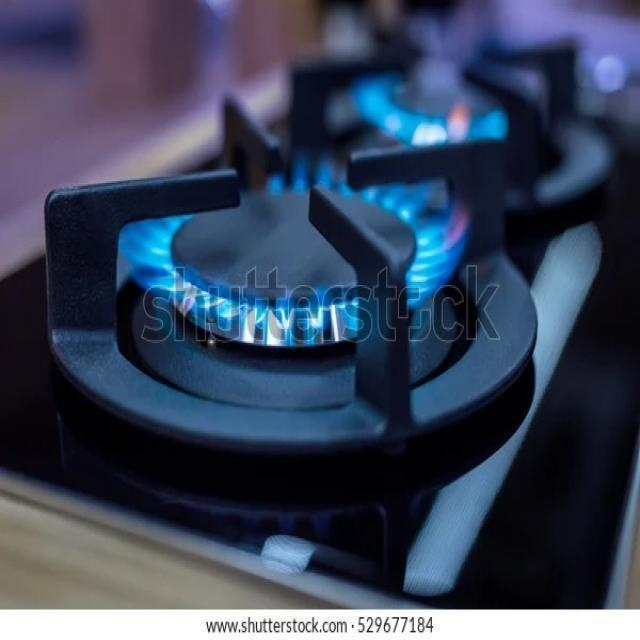Flame: (92, 173, 485, 365), (354, 68, 532, 161)
